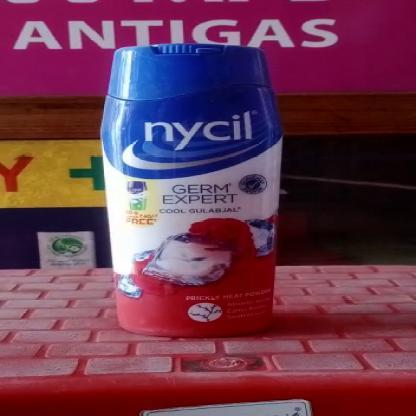Nycil Prickly Heat Powder: (102, 40, 284, 340)
